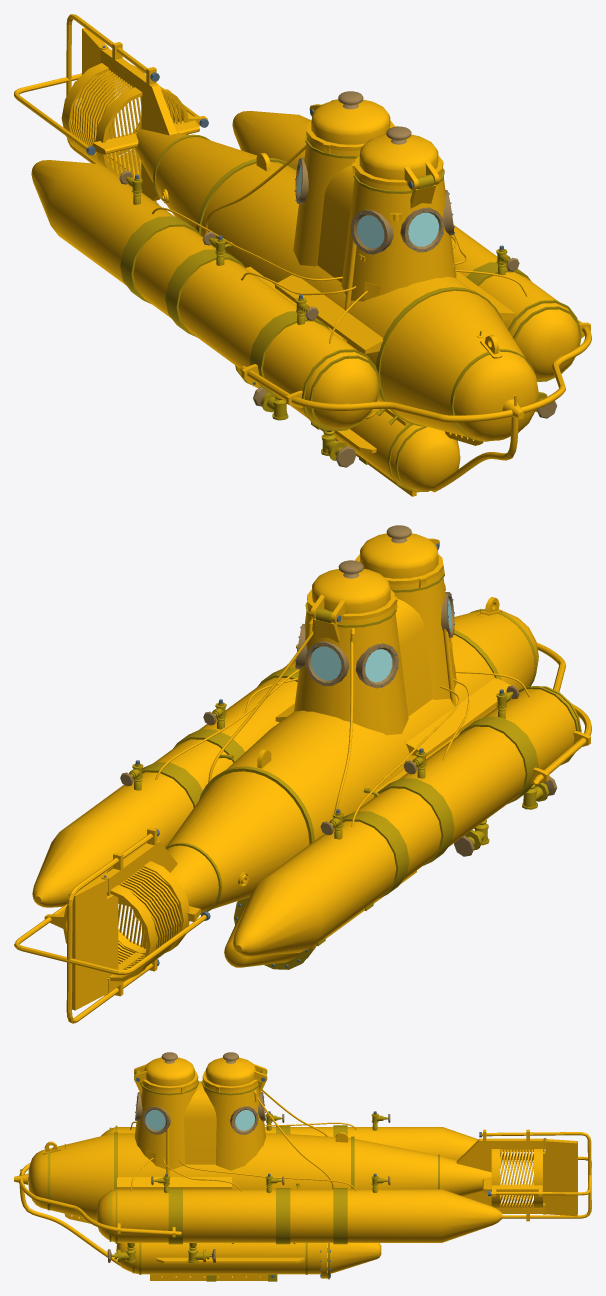
Rendered from submarine.glb.
3 renders of one model, top to bottom at view 1: azimuth 30°, elevation 25°; view 2: azimuth 150°, elevation 25°; view 3: azimuth 270°, elevation 25°, orthographic. The views are drawn at different scales.
Visible parts, largest first — view 1: body, L-R, body_detail, niz, hvost, hvost-napravlenie, okna, trubki.001, krani, trubki, krani.001; view 2: body, L-R, hvost-napravlenie, hvost, body_detail, okna, trubki.001, trubki, krani, niz, krani.001; view 3: body, L-R, niz, hvost-napravlenie, body_detail, hvost, trubki.001, okna, krani, trubki.
Boxes of the visible parts, left/top/right/bottom form: body: left=134, top=91, right=538, bottom=441; L-R: left=31, top=111, right=581, bottom=431; body_detail: left=240, top=152, right=591, bottom=492; niz: left=235, top=365, right=460, bottom=496; hvost: left=61, top=63, right=189, bottom=182; hvost-napravlenie: left=82, top=28, right=208, bottom=204; okna: left=294, top=158, right=454, bottom=254; trubki.001: left=14, top=14, right=207, bottom=164; krani: left=125, top=174, right=547, bottom=460; trubki: left=152, top=145, right=527, bottom=419; krani.001: left=119, top=170, right=556, bottom=467; body: left=133, top=525, right=538, bottom=921; L-R: left=32, top=659, right=581, bottom=956; hvost-napravlenie: left=68, top=827, right=210, bottom=1010; hvost: left=62, top=861, right=189, bottom=981; body_detail: left=257, top=597, right=591, bottom=796; okna: left=295, top=592, right=454, bottom=688; trubki.001: left=14, top=833, right=206, bottom=1023; trubki: left=155, top=631, right=530, bottom=826; krani: left=129, top=644, right=549, bottom=850; niz: left=224, top=870, right=416, bottom=969; krani.001: left=120, top=685, right=557, bottom=856; body: left=28, top=1052, right=500, bottom=1221; L-R: left=96, top=1125, right=502, bottom=1244; niz: left=116, top=1243, right=381, bottom=1281; hvost-napravlenie: left=456, top=1129, right=577, bottom=1221; body_detail: left=14, top=1090, right=347, bottom=1266; hvost: left=491, top=1149, right=542, bottom=1208; trubki.001: left=482, top=1132, right=591, bottom=1218; okna: left=135, top=1092, right=265, bottom=1134; krani: left=112, top=1111, right=388, bottom=1263; trubki: left=130, top=1089, right=356, bottom=1191.
Size of the model in its own units: 1.84 by 2.05 by 4.74.
